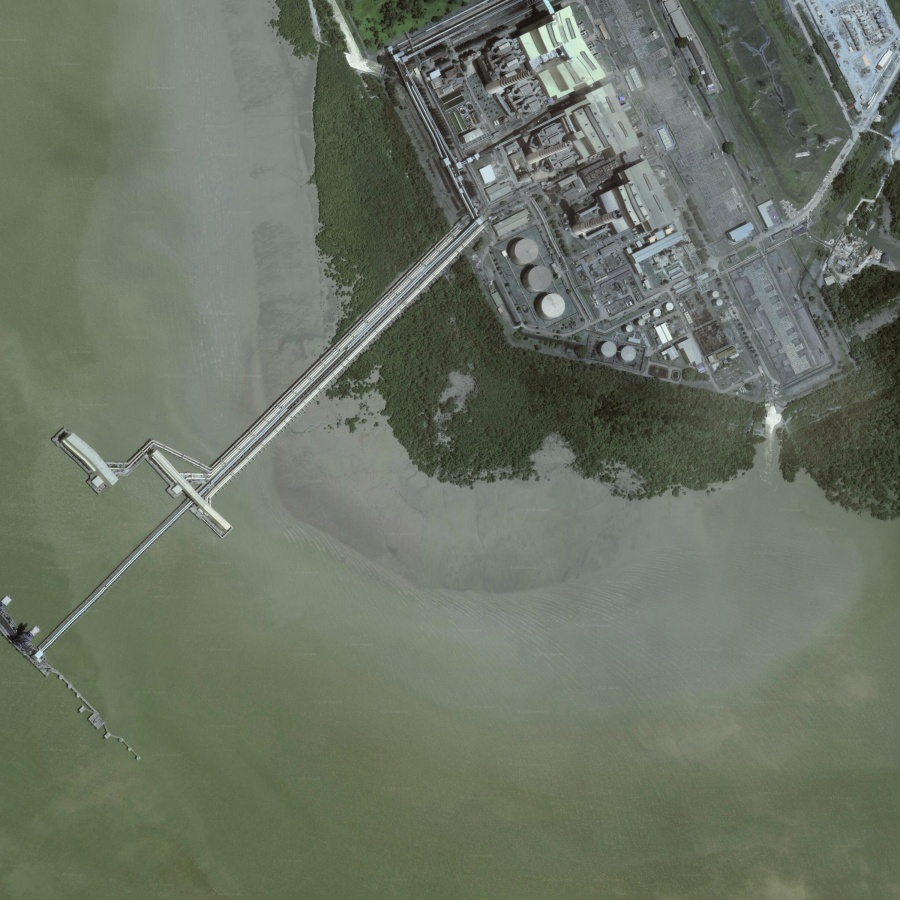PowerPlant: (410, 20, 775, 382)
